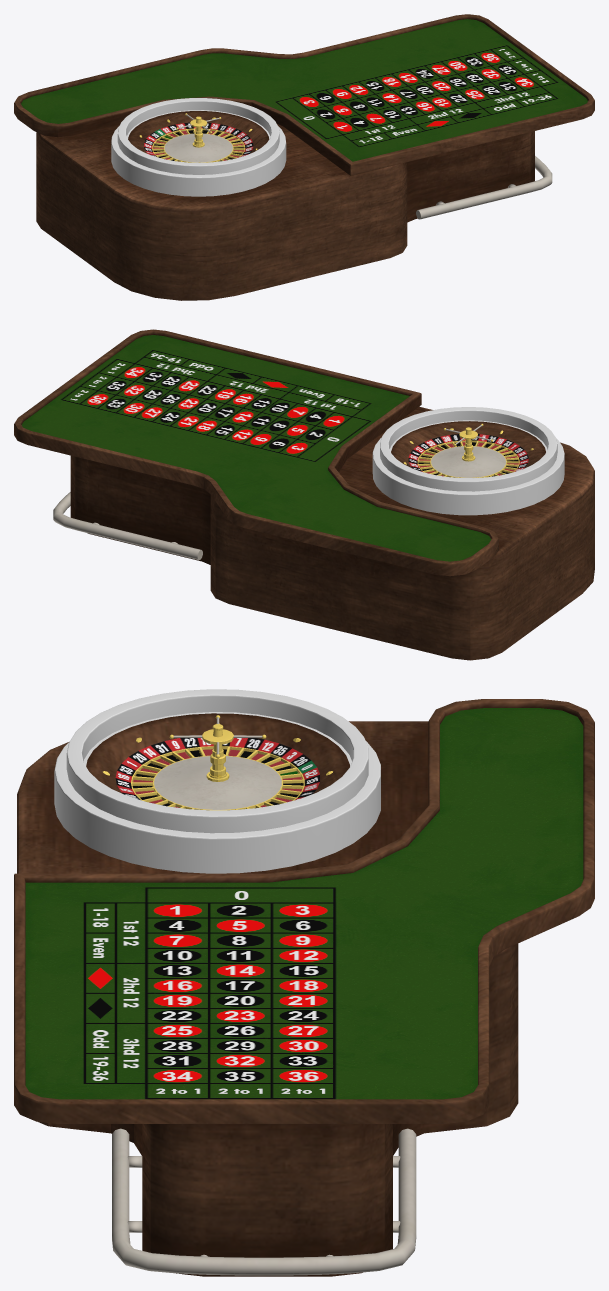
File: MES_RouletteTable_European.fbx
3 renders of one model, top to bottom at view 1: azimuth 30°, elevation 25°; view 2: azimuth 150°, elevation 25°; view 3: azimuth 270°, elevation 25°, orthographic. The views are drawn at different scales.
Visible parts, largest first — view 1: MES_RouletteTable, MES_RouletteTable.001; view 2: MES_RouletteTable, MES_RouletteTable.001; view 3: MES_RouletteTable, MES_RouletteTable.001.
Part boxes in pixels (x1=…): MES_RouletteTable: x1=14, y1=14, x2=594, y2=300; MES_RouletteTable.001: x1=144, y1=113, x2=253, y2=162; MES_RouletteTable: x1=14, y1=329, x2=594, y2=660; MES_RouletteTable.001: x1=408, y1=423, x2=528, y2=477; MES_RouletteTable: x1=14, y1=689, x2=594, y2=1276; MES_RouletteTable.001: x1=115, y1=715, x2=319, y2=810.
Size of the model in its own units: 4165 by 1206 by 2524.
